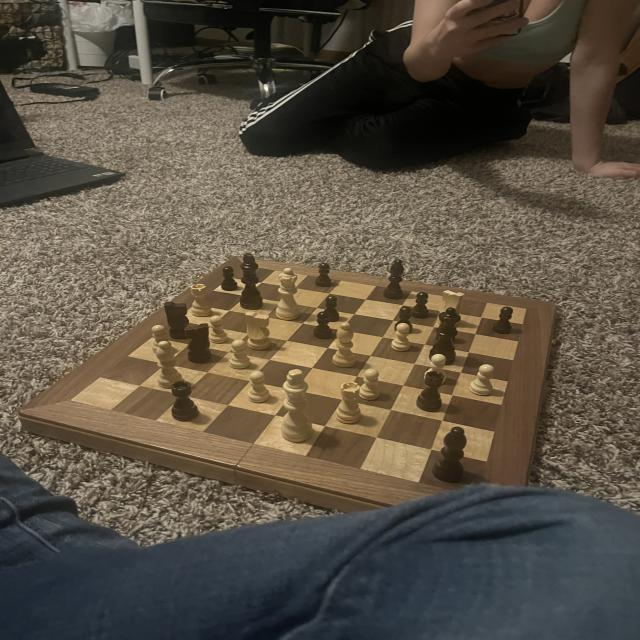bishop: (430, 426, 472, 484), (381, 258, 407, 301)
black-bishop: (236, 251, 268, 310)
black-king: (183, 322, 215, 364), (164, 299, 194, 340)
black-knight: (489, 306, 516, 337), (392, 305, 417, 334), (313, 310, 335, 342), (217, 265, 240, 293), (411, 290, 432, 319), (321, 296, 344, 322), (314, 262, 336, 288)
black-pawn: (428, 306, 463, 367)
black-queen: (416, 368, 452, 415), (168, 378, 203, 424)
black-rook: (154, 340, 188, 391), (332, 320, 357, 370)
white-bishop: (276, 367, 319, 447)
white-king: (244, 309, 275, 352), (438, 290, 468, 332)
white-knight: (467, 363, 496, 398), (248, 370, 275, 404), (357, 368, 383, 403), (203, 314, 230, 346), (422, 353, 448, 386), (227, 338, 250, 372), (389, 322, 414, 352), (150, 322, 174, 352)
white-pawn: (275, 265, 305, 322)
white-queen: (332, 380, 367, 427), (188, 282, 216, 319)
